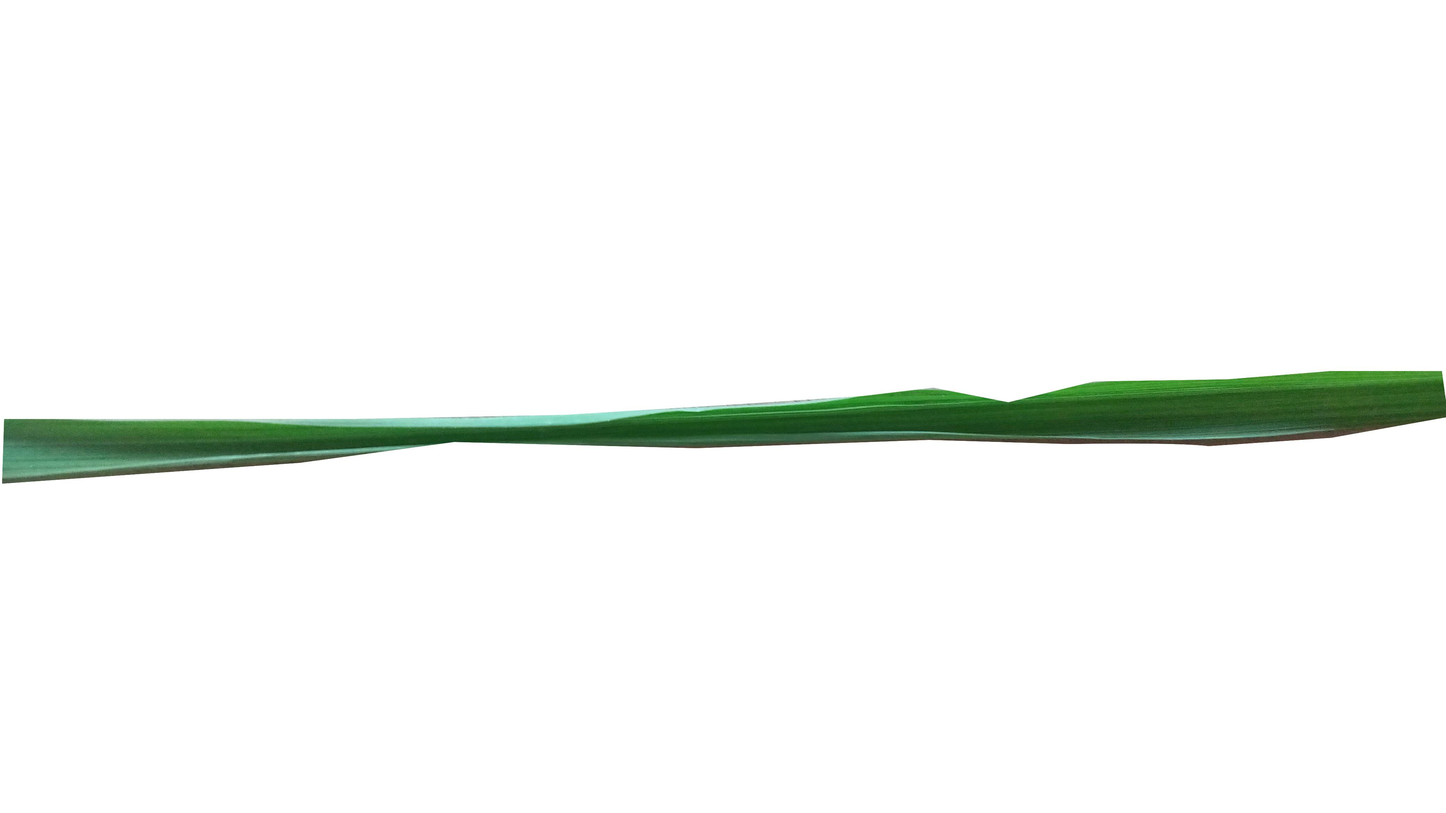Healthy: (0, 372, 1446, 483)
